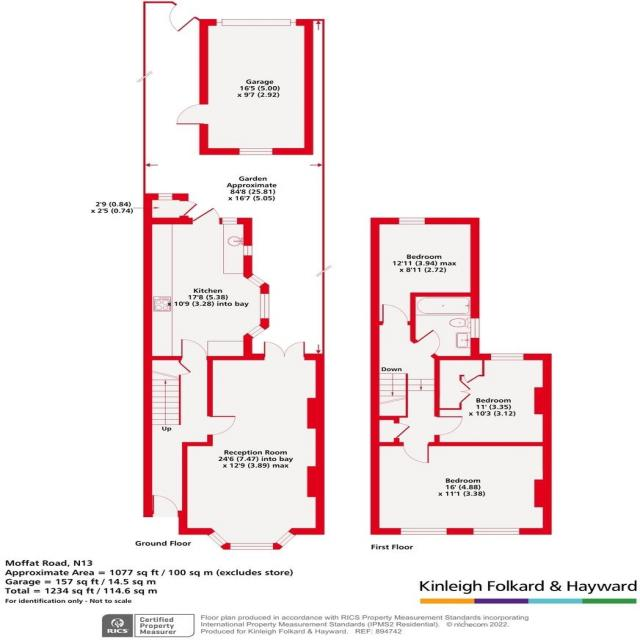DOOR: (413, 329, 441, 356), (176, 103, 209, 125), (152, 494, 179, 517), (382, 304, 409, 326), (402, 442, 430, 463), (207, 415, 236, 435), (435, 416, 464, 436), (181, 338, 208, 359), (192, 207, 221, 222)
ROOM: (177, 340, 325, 549), (143, 207, 270, 360), (370, 442, 552, 535), (371, 217, 479, 326), (434, 353, 552, 446)
WINDOW: (206, 530, 229, 547), (275, 530, 295, 548), (399, 528, 447, 535), (472, 528, 520, 535), (228, 543, 274, 550), (246, 273, 266, 288), (259, 292, 270, 319), (246, 324, 267, 338), (490, 353, 525, 361), (238, 148, 273, 155), (470, 318, 481, 338), (398, 217, 425, 225), (221, 217, 237, 224), (243, 245, 253, 256), (158, 193, 173, 200)
